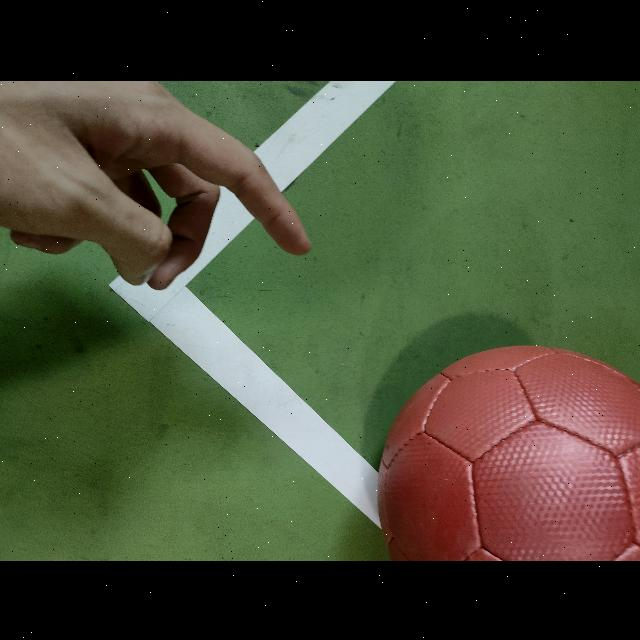R: (378, 346, 640, 560)
